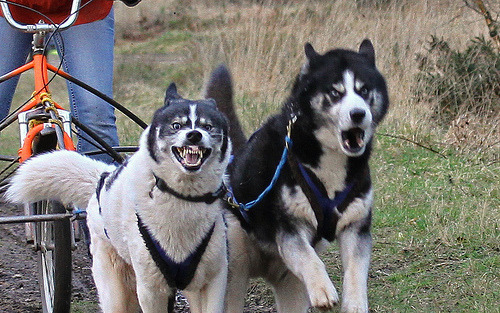dog: (3, 80, 233, 312), (205, 36, 391, 312)
